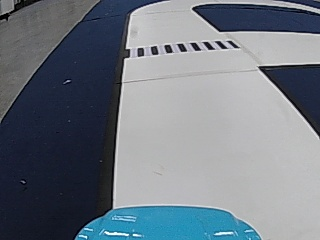CrossWalk: (131, 38, 235, 58)
